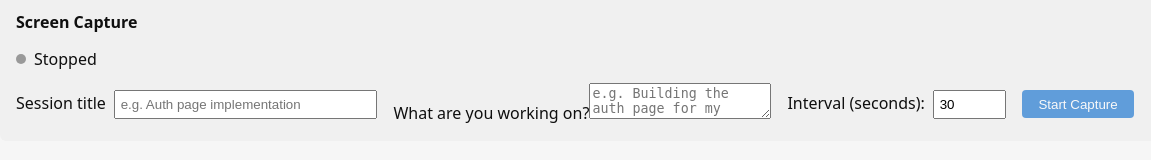
CaptureControls › enables Start Capture when title is provided
Type "My Session" into the field with placeholder "e.g. Auth page implementation".
click(246, 104); type("My Session")  # box [114,90,377,119]
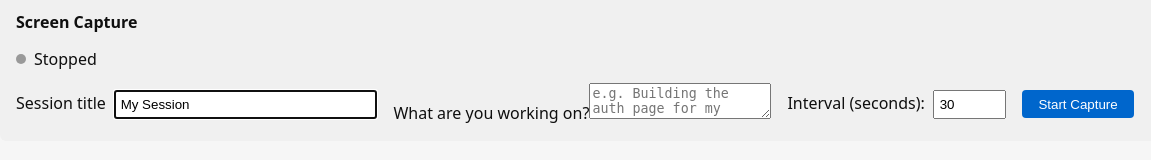
expect the button "Start Capture" is enabled: met, box [1022,90,1134,118]
